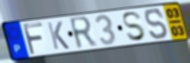3: (94, 14, 118, 47)
F: (21, 21, 45, 56)
K: (46, 21, 71, 51)
R: (68, 15, 99, 52)
S: (121, 11, 148, 43), (144, 8, 170, 41)
